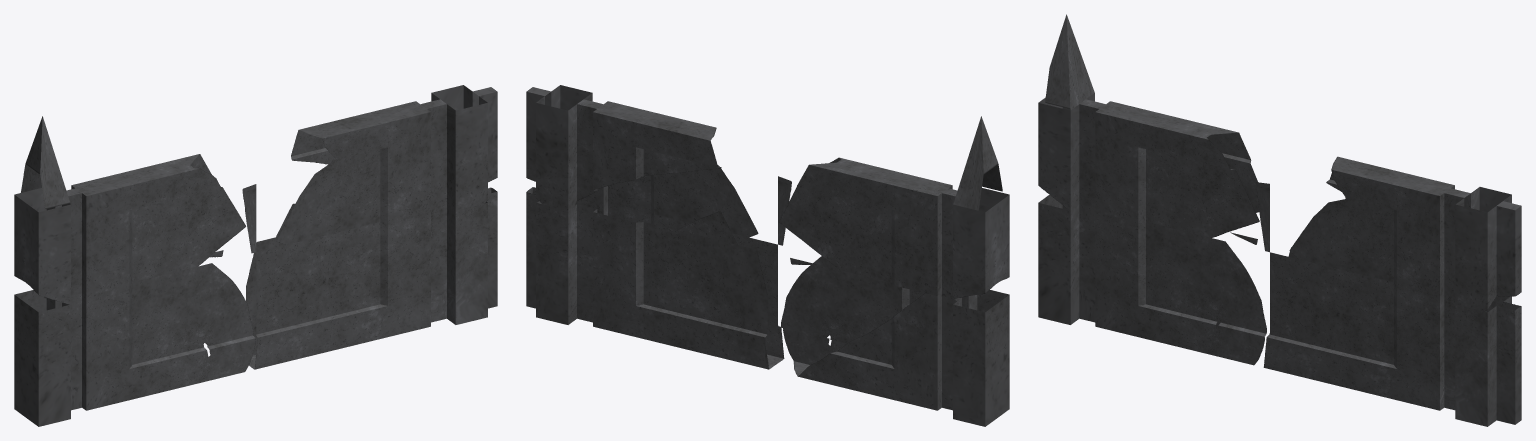
The model's file is wall_end_left.fbx.
The picture shows the model from 3 angles, left to right: view 1: azimuth 30°, elevation 25°; view 2: azimuth 150°, elevation 25°; view 3: azimuth 330°, elevation 25°; orthographic projection.
Visible parts, largest first — view 1: wall_end_left; view 2: wall_end_left; view 3: wall_end_left.
Part boxes in pixels (x1,y1,x2,y2): wall_end_left: (14, 85, 497, 426); wall_end_left: (526, 85, 1009, 426); wall_end_left: (1038, 14, 1521, 426).
Bounding box in the file's own units: 672 × 410 × 60.61.
